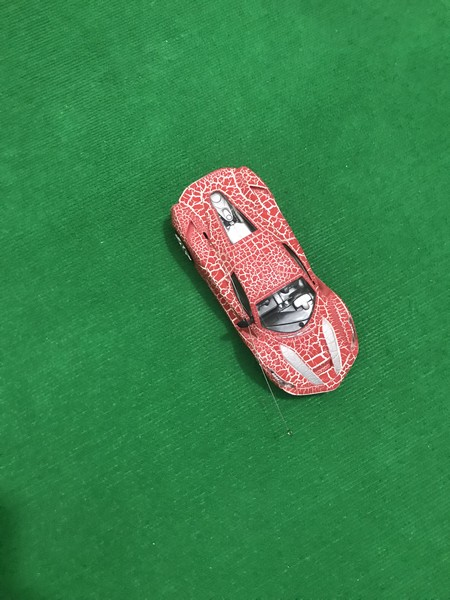RC: (166, 164, 364, 404)
